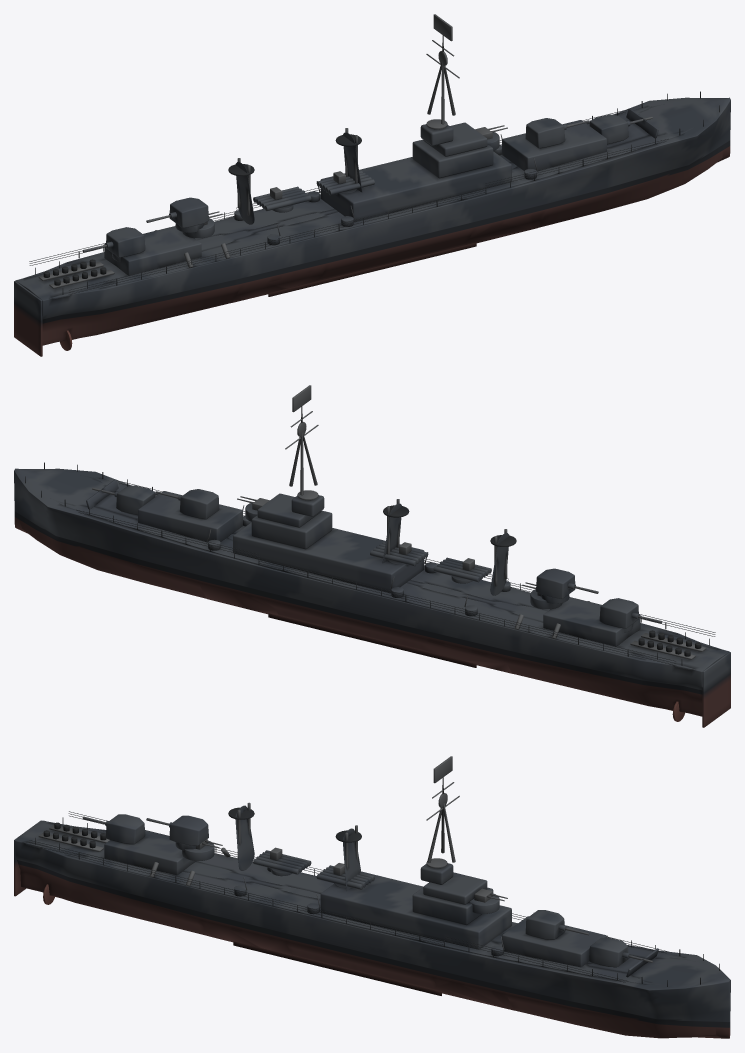
Rendered from fletcher.glb.
3 renders of one model, top to bottom at view 1: azimuth 30°, elevation 25°; view 2: azimuth 150°, elevation 25°; view 3: azimuth 330°, elevation 25°, orthographic.
Parts seen in each view (by area): view 1: hull, bridge, deck, gun_x, gun_b, torps, aa, depth, funnel_a, gun_a, funnel_f, mast; view 2: hull, bridge, deck, gun_x, gun_b, torps, aa, depth, funnel_a, gun_a, funnel_f, mast; view 3: hull, bridge, deck, gun_x, gun_b, torps, aa, depth, funnel_a, gun_a, funnel_f, mast.
Part boxes in pixels (x1,y1,x2,y2): hull: (14,97,730,356); bridge: (320,119,511,221); deck: (22,91,719,299); gun_x: (82,197,208,275); gun_b: (502,118,606,171); torps: (253,170,374,212); aa: (182,125,537,245); depth: (38,230,230,288); funnel_a: (228,158,254,224); gun_a: (589,114,652,144); funnel_f: (335,128,362,192); mast: (426,35,459,124); hull: (14,468,730,727); bridge: (233,490,424,592); deck: (25,462,722,670); gun_x: (536,568,662,646); gun_b: (138,489,242,542); torps: (370,541,491,583); aa: (207,496,562,616); depth: (514,601,706,659); funnel_a: (490,529,516,595); gun_a: (92,485,155,515); funnel_f: (382,499,409,563); mast: (285,406,318,495); hull: (14,820,730,1038); bridge: (320,858,511,949); deck: (22,811,719,986); gun_x: (82,814,208,875); gun_b: (502,910,606,967); torps: (253,847,374,889); aa: (182,839,507,956); depth: (38,822,230,886); funnel_a: (228,802,254,870); gun_a: (589,937,652,967); funnel_f: (335,825,361,890); mast: (426,777,459,862).
Bounding box in the file's own units: 115 × 35.86 × 13.57.
